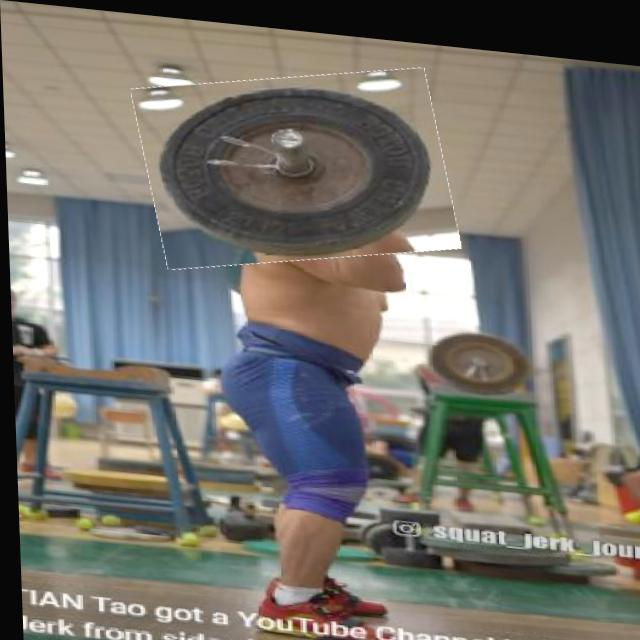barbell: (137, 48, 456, 278)
